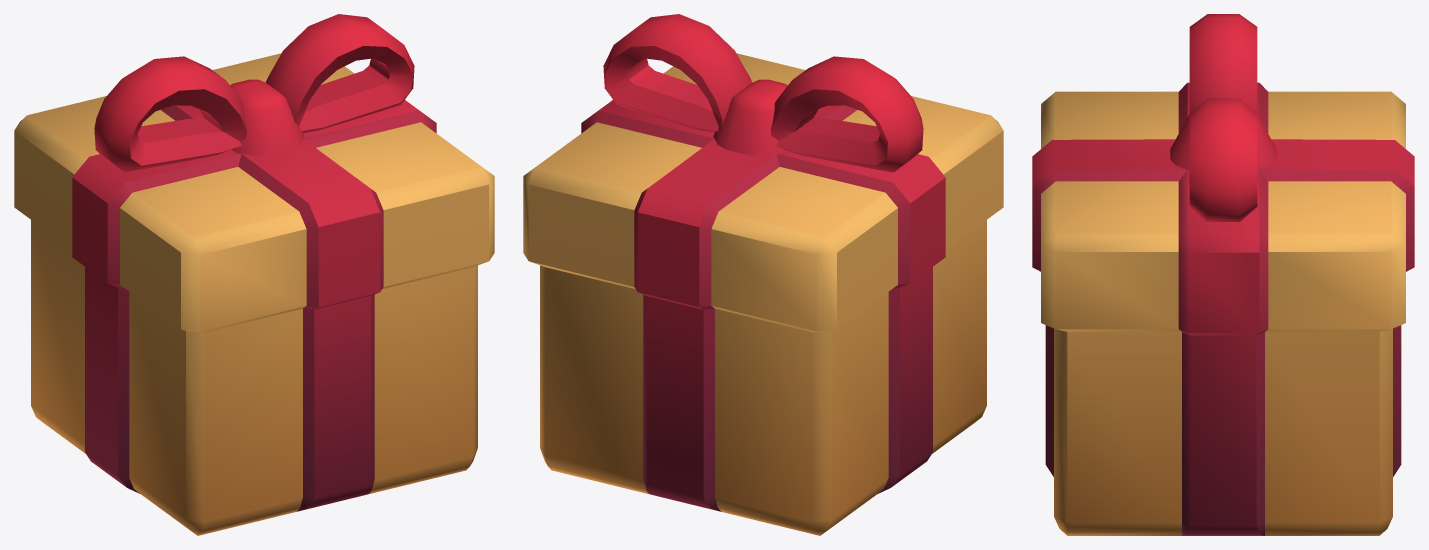
File: present_A_yellow.glb
3 renders of one model, left to right at view 1: azimuth 30°, elevation 25°; view 2: azimuth 150°, elevation 25°; view 3: azimuth 270°, elevation 25°, orthographic.
Visible parts, largest first — view 1: present_A_yellow; view 2: present_A_yellow; view 3: present_A_yellow.
Part boxes in pixels (x1,y1,x2,y2): present_A_yellow: [14, 14, 494, 535]; present_A_yellow: [523, 14, 1003, 535]; present_A_yellow: [1032, 14, 1414, 535].
Size of the model in its own units: 0.5638 by 0.6617 by 0.5638.
Materials: 1 (1 with a texture image).
